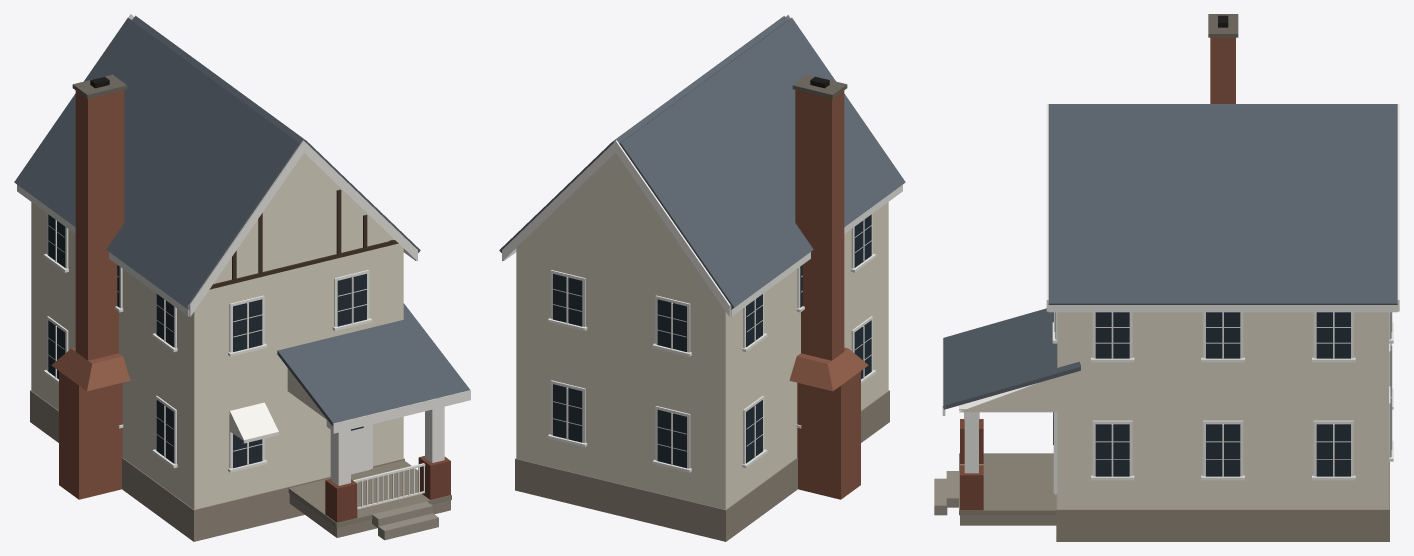
Rendered from stucco-tudor-revival-house-0002.glb.
3 renders of one model, left to right at view 1: azimuth 30°, elevation 25°; view 2: azimuth 150°, elevation 25°; view 3: azimuth 270°, elevation 25°, orthographic.
Parts seen in each view (by area): view 1: kit-stucco-tudor-revival-house-0002; view 2: kit-stucco-tudor-revival-house-0002; view 3: kit-stucco-tudor-revival-house-0002.
Boxes of the visible parts, x1,y1,x2,y2 form: kit-stucco-tudor-revival-house-0002: (14,14,470,541); kit-stucco-tudor-revival-house-0002: (499,14,905,541); kit-stucco-tudor-revival-house-0002: (934,14,1399,541).
Size of the model in its own units: 7.32 by 10.63 by 10.89.
